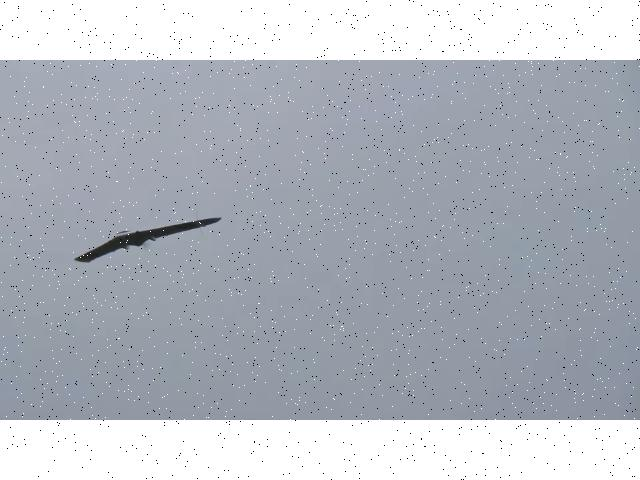Anti-Drone: (75, 218, 221, 262)
